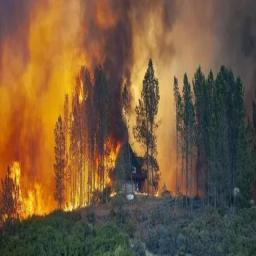Heavy smoke: (68, 5, 135, 151)
Large fire: (3, 68, 178, 220)
